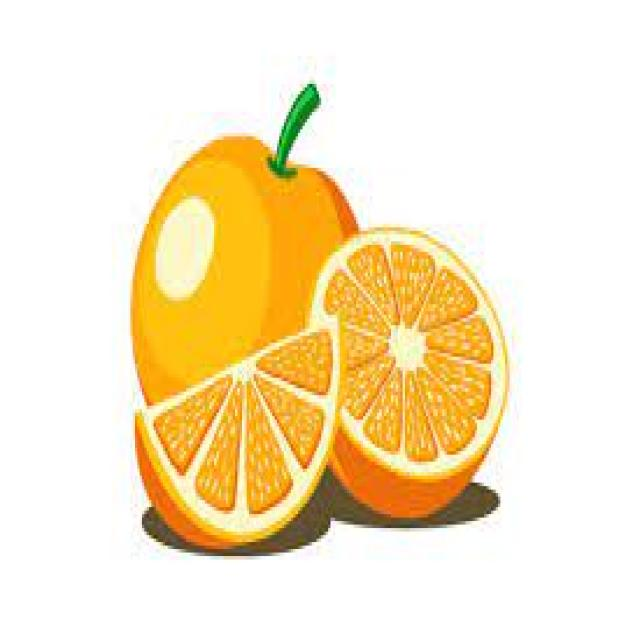orange: (131, 118, 365, 450)
